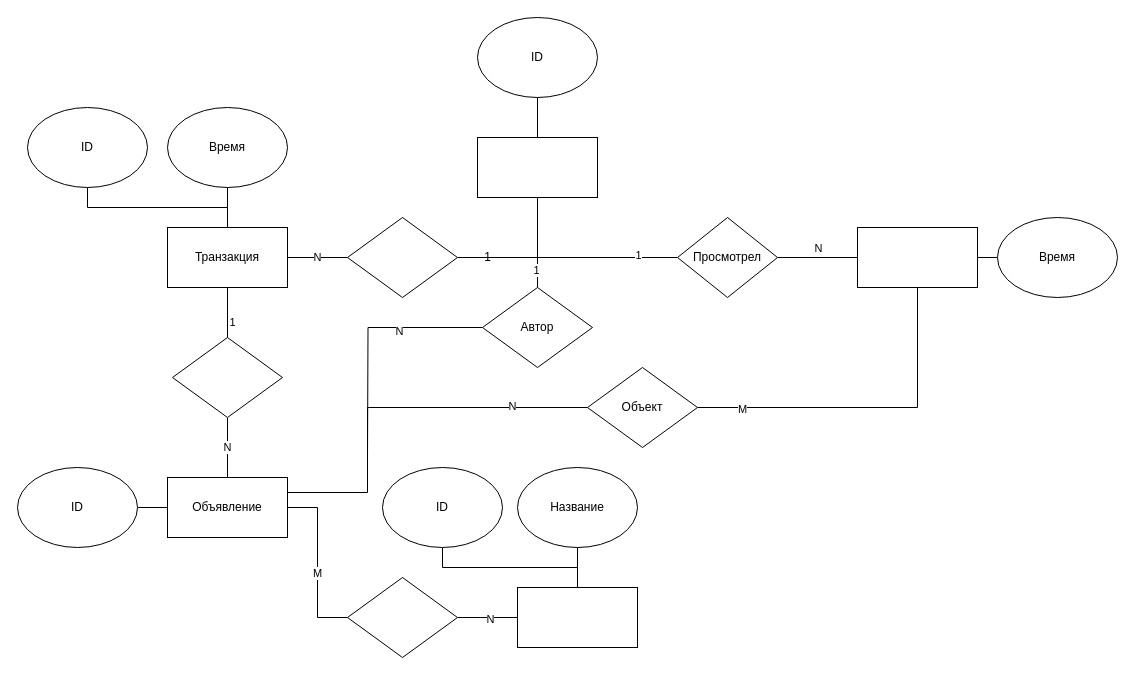
The diagram is 1135 pixels wide and 675 high, and some of its shapes have lost their labels. The centre of each missing label's shape, as x and y in pixels:
Купил/ Продал: the point at 402,257
Относится: the point at 402,617
Пользователь: the point at 537,167
Просмотр: the point at 917,257
Содержит: the point at 227,377
Тип объявления: the point at 577,617
